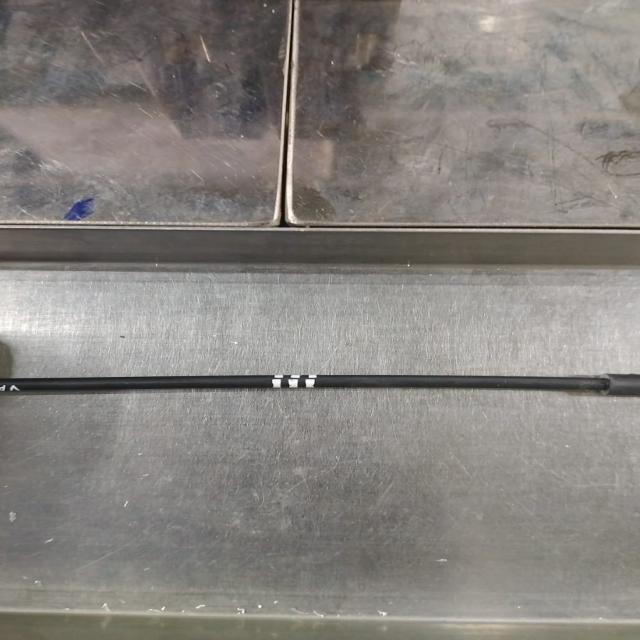white: (271, 374, 317, 389)
